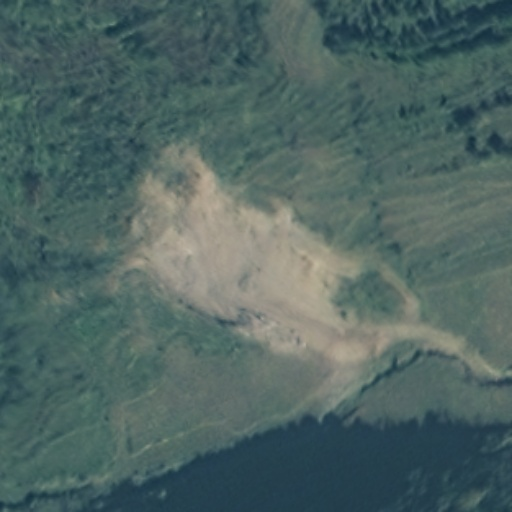landslide: (130, 151, 424, 359)
